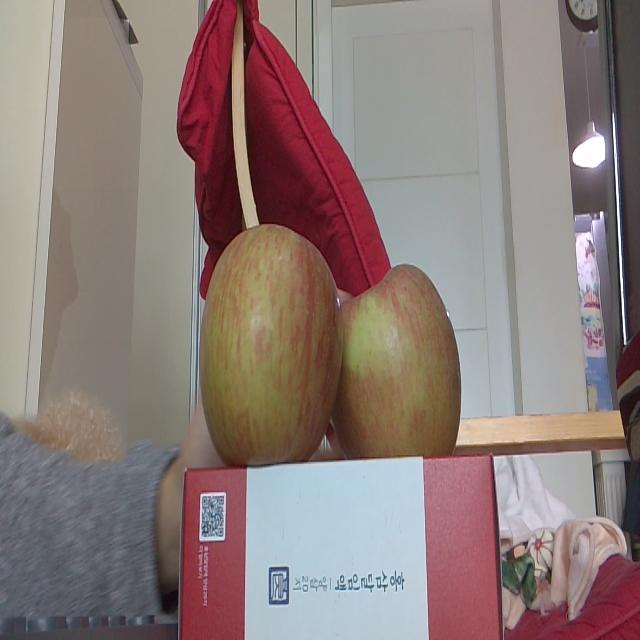apple: (200, 224, 340, 463), (342, 264, 460, 456)
